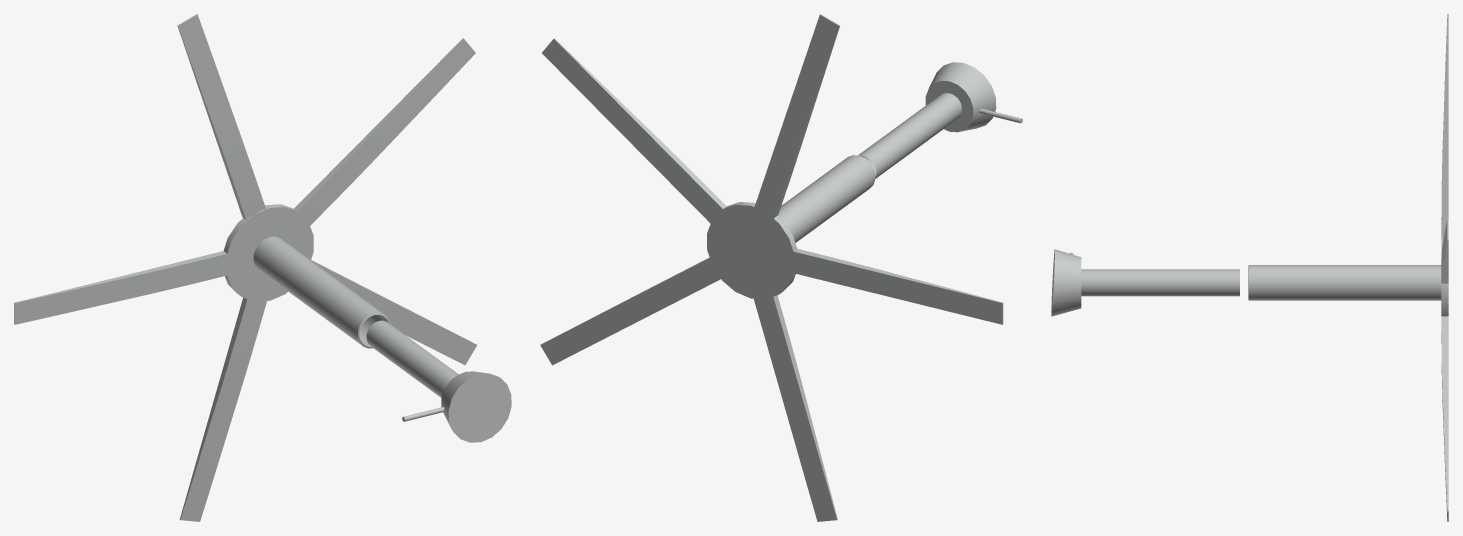
The model's file is MeshRobothorOfficeChairJules_0_GeomSubset_1.obj.
The picture shows the model from 3 angles, left to right: view 1: azimuth 30°, elevation 25°; view 2: azimuth 150°, elevation 25°; view 3: azimuth 270°, elevation 25°; orthographic projection. The views are drawn at different scales.
Visible parts, largest first — view 1: MeshRobothorOfficeChairJules_0_GeomSubset_1; view 2: MeshRobothorOfficeChairJules_0_GeomSubset_1; view 3: MeshRobothorOfficeChairJules_0_GeomSubset_1.
Part boxes in pixels (left/top/right/bottom): MeshRobothorOfficeChairJules_0_GeomSubset_1: left=14, top=14, right=511, bottom=521; MeshRobothorOfficeChairJules_0_GeomSubset_1: left=540, top=14, right=1022, bottom=521; MeshRobothorOfficeChairJules_0_GeomSubset_1: left=1051, top=14, right=1448, bottom=521.
Bounding box in the file's own units: 0.5155 × 0.5412 × 0.4151.
